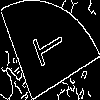T: (25, 25, 67, 72)
